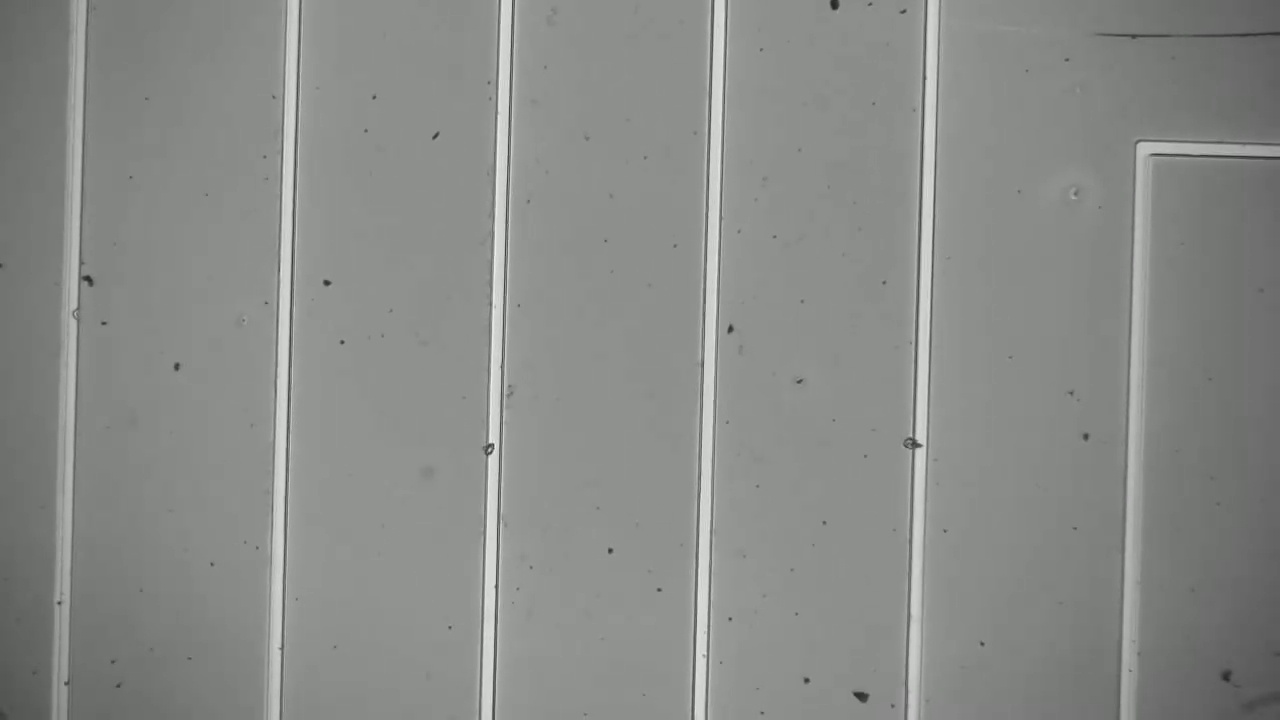edge_bite: (52, 297, 84, 329)
scratch: (1078, 19, 1278, 58)
stains_enbedded: (896, 425, 936, 461), (471, 432, 510, 467)
